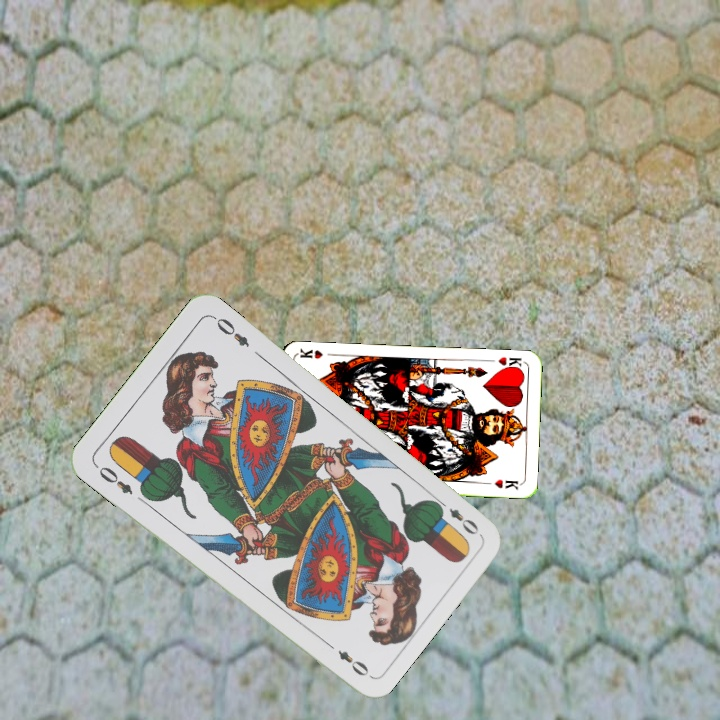EO: (432, 495, 482, 538), (91, 460, 136, 497)
HK: (494, 352, 526, 373)
